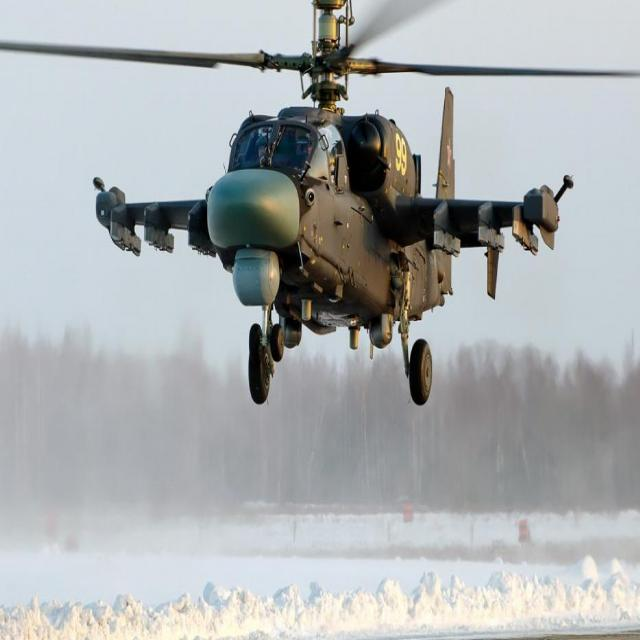helicopter: (1, 1, 640, 423)
